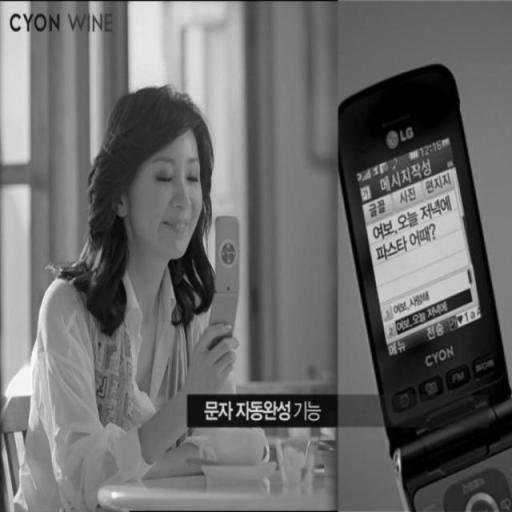phone: (341, 55, 511, 512), (208, 208, 243, 341)
